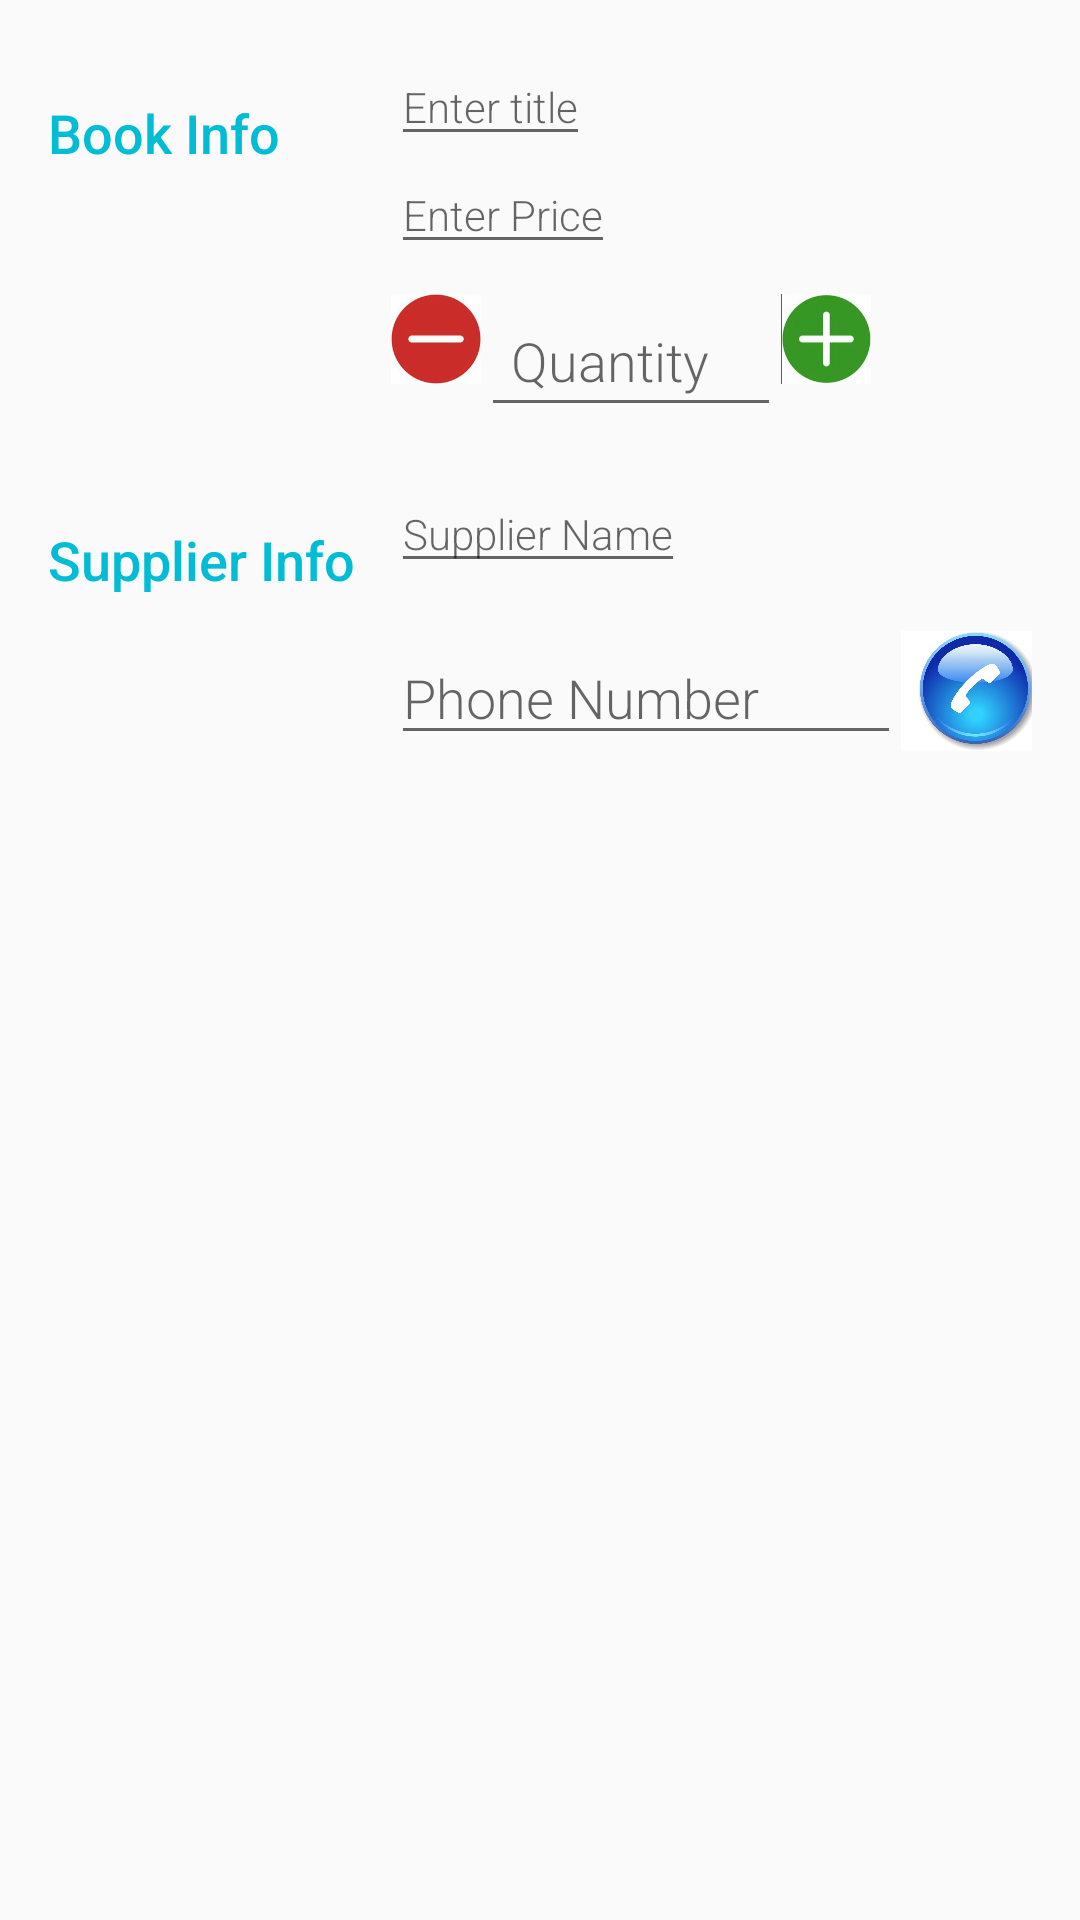

Screen size 1080px×1920px. Icon name, then its center in pixels as (x,y):
add: (826,339)
minus: (436,339)
